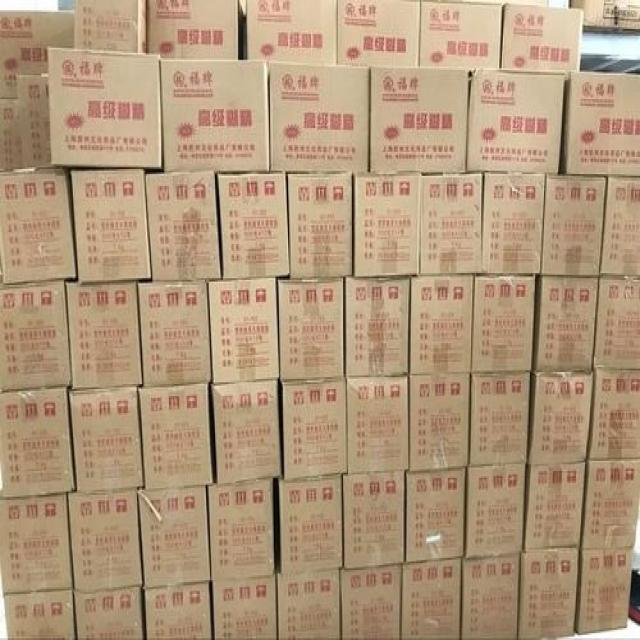box: (47, 48, 161, 169), (163, 60, 270, 171), (268, 60, 369, 174), (369, 67, 468, 174), (467, 70, 564, 174), (72, 169, 152, 282), (1, 169, 78, 283), (559, 72, 640, 177), (0, 386, 76, 497), (216, 172, 291, 282), (140, 382, 214, 492), (146, 172, 221, 280), (0, 278, 72, 389), (68, 488, 143, 594), (68, 283, 142, 389), (138, 280, 212, 386), (70, 387, 143, 490), (211, 381, 282, 485), (209, 278, 279, 382), (1, 493, 73, 594), (140, 486, 210, 587), (276, 278, 344, 381), (344, 276, 411, 377), (408, 273, 475, 374), (288, 174, 353, 278), (353, 174, 419, 276), (280, 381, 347, 480), (209, 480, 275, 580), (541, 174, 605, 276), (0, 9, 74, 97), (527, 372, 594, 468), (420, 174, 483, 275), (483, 174, 545, 276), (532, 276, 599, 370), (346, 377, 410, 474), (279, 476, 343, 573), (246, 0, 338, 65), (410, 375, 472, 471), (468, 372, 530, 468), (344, 471, 404, 570), (474, 276, 535, 372), (147, 0, 246, 58), (517, 548, 579, 640), (406, 468, 466, 563), (419, 0, 502, 68), (524, 463, 588, 551), (465, 466, 526, 558), (338, 0, 421, 67), (502, 3, 584, 70), (461, 553, 522, 640), (581, 459, 640, 548), (402, 558, 462, 640), (586, 369, 640, 459), (577, 548, 634, 633), (590, 276, 640, 370), (340, 565, 402, 640), (279, 568, 340, 640), (212, 575, 276, 640), (599, 177, 640, 276), (146, 582, 211, 640), (73, 0, 146, 51), (4, 589, 76, 638), (76, 587, 142, 640), (15, 73, 50, 167), (571, 0, 640, 32), (0, 99, 22, 171)
